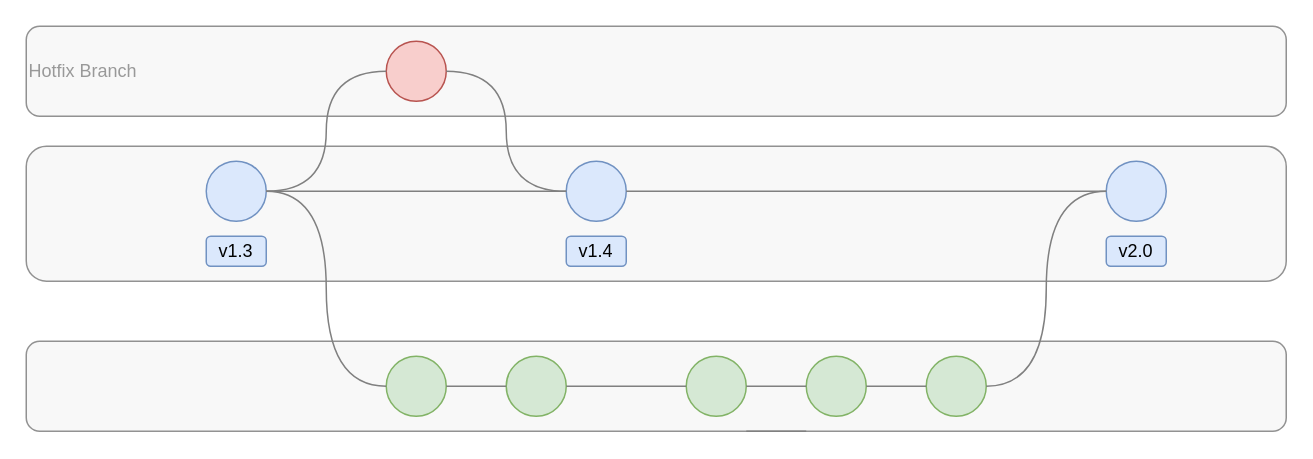
The diagram is 1313 pixels wide and 459 high, and some of its shapes have lost their labels. Here are the shapes that lost their labels. From the top down, the box of each, then its label:
(25, 145, 1286, 281): Main Branch
(25, 340, 1286, 431): Feature Branch
